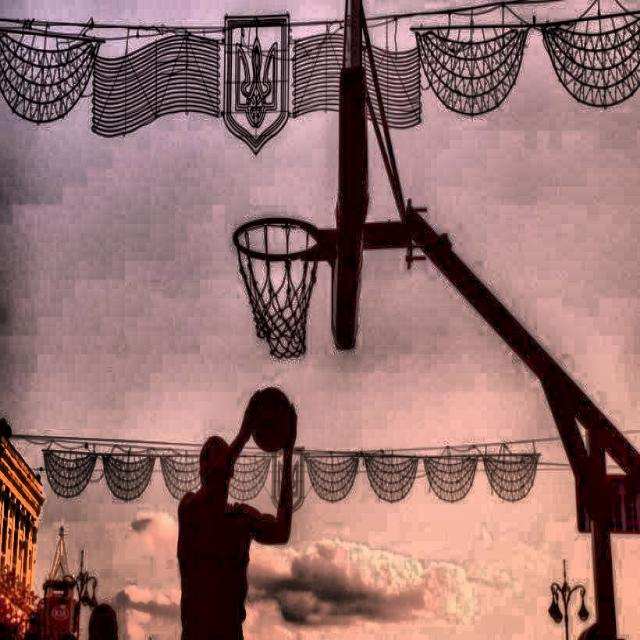rim: (232, 217, 318, 358)
